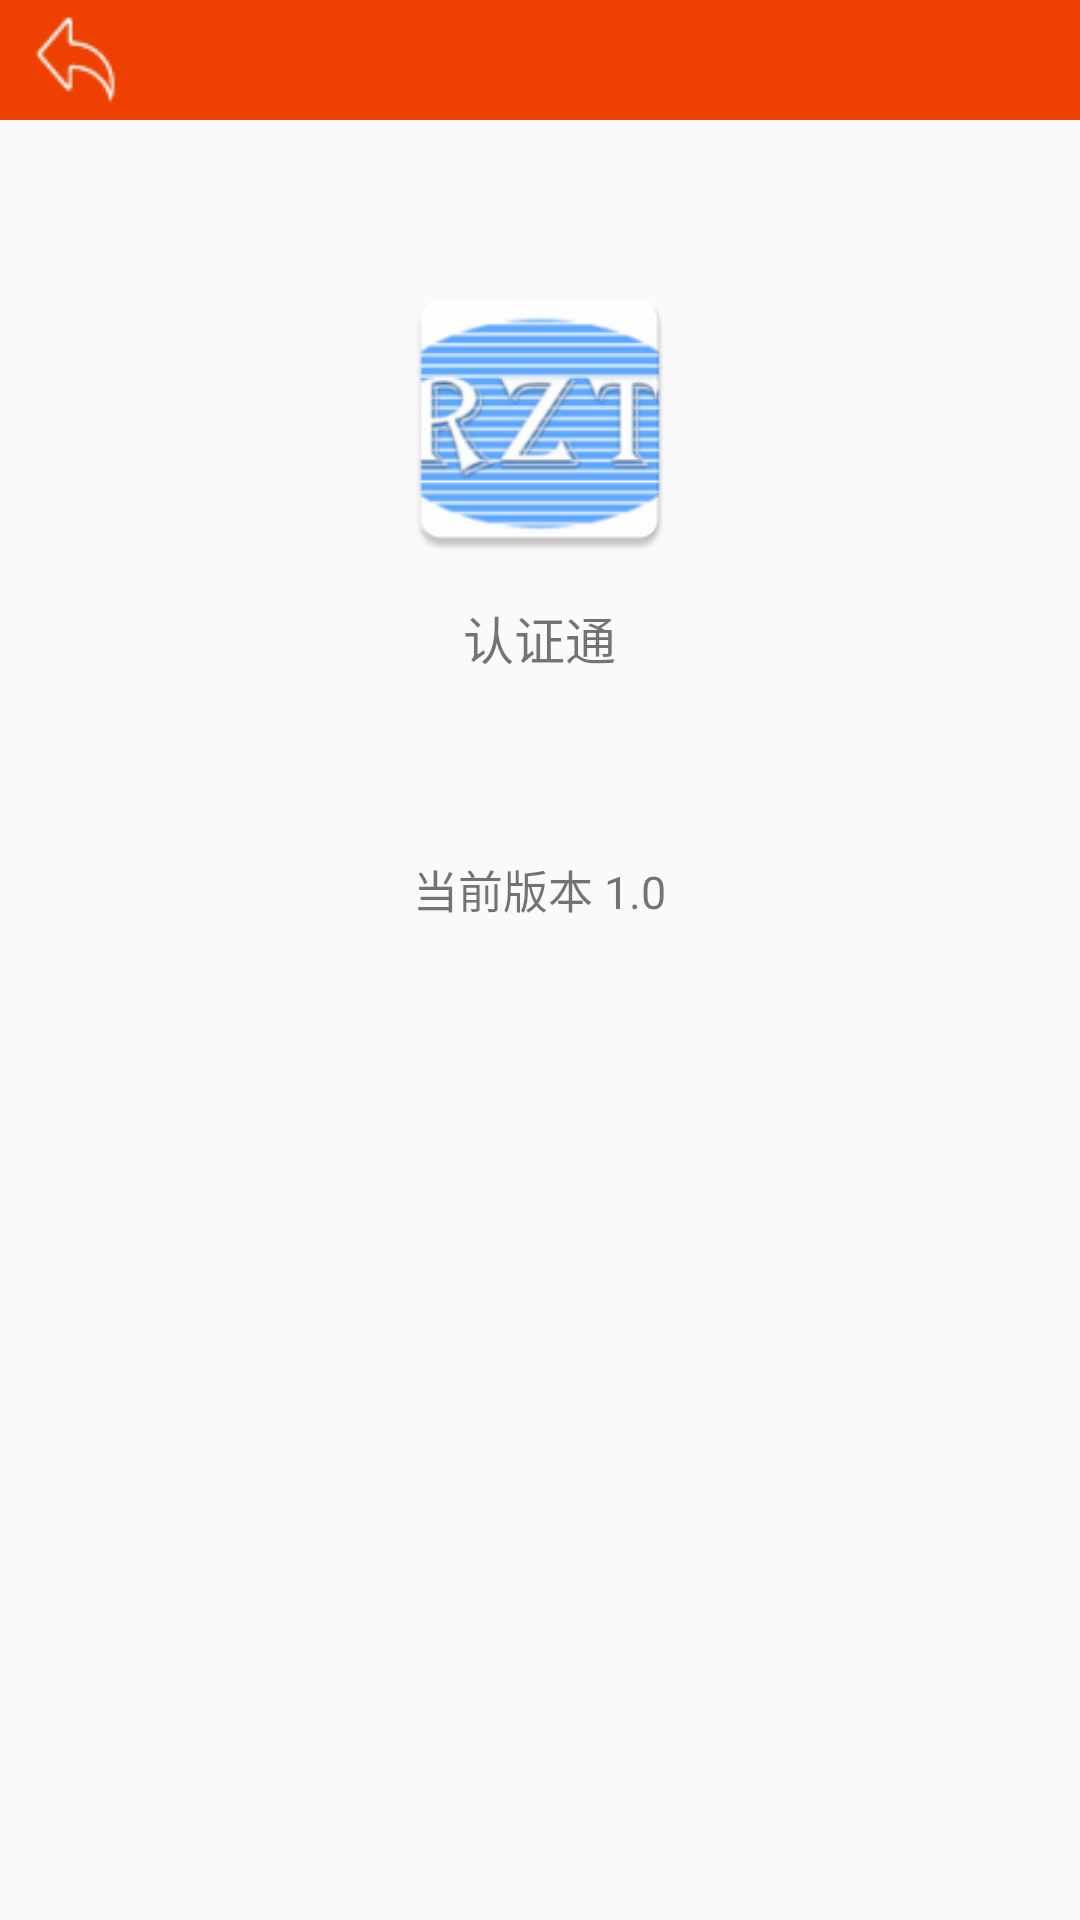

Named icons in this screenshot (1080w x 1920h) and their bounding boxes, (x1,y1,x2,y2):
back: (35,17,115,102)
